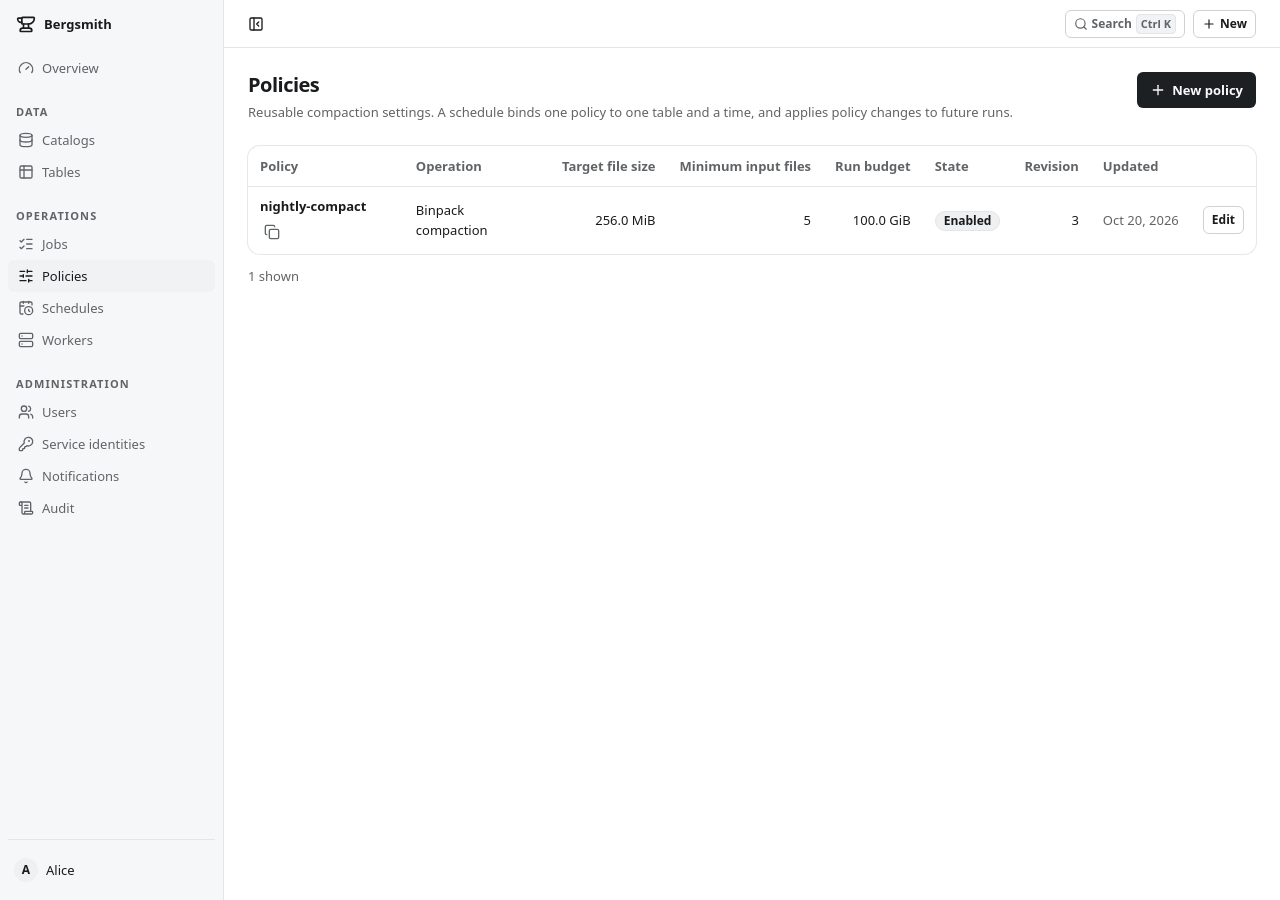
it: closes an edit without saving when the dialog is dismissed
This screenshot has width=1280, height=900.
Click the button with aria-label "Edit nightly-compact" at (1223, 220), box [1203,206,1244,234]
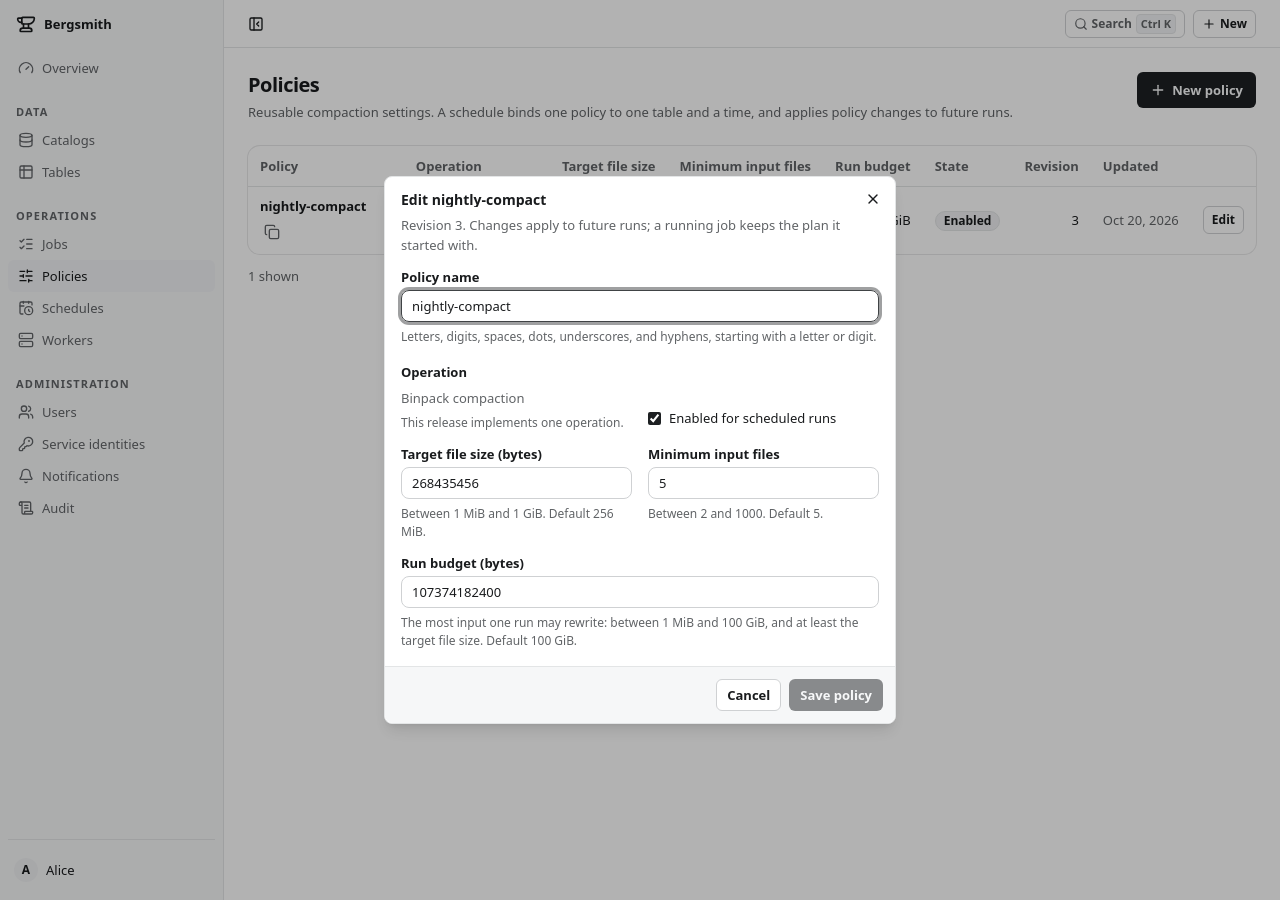
Press Escape
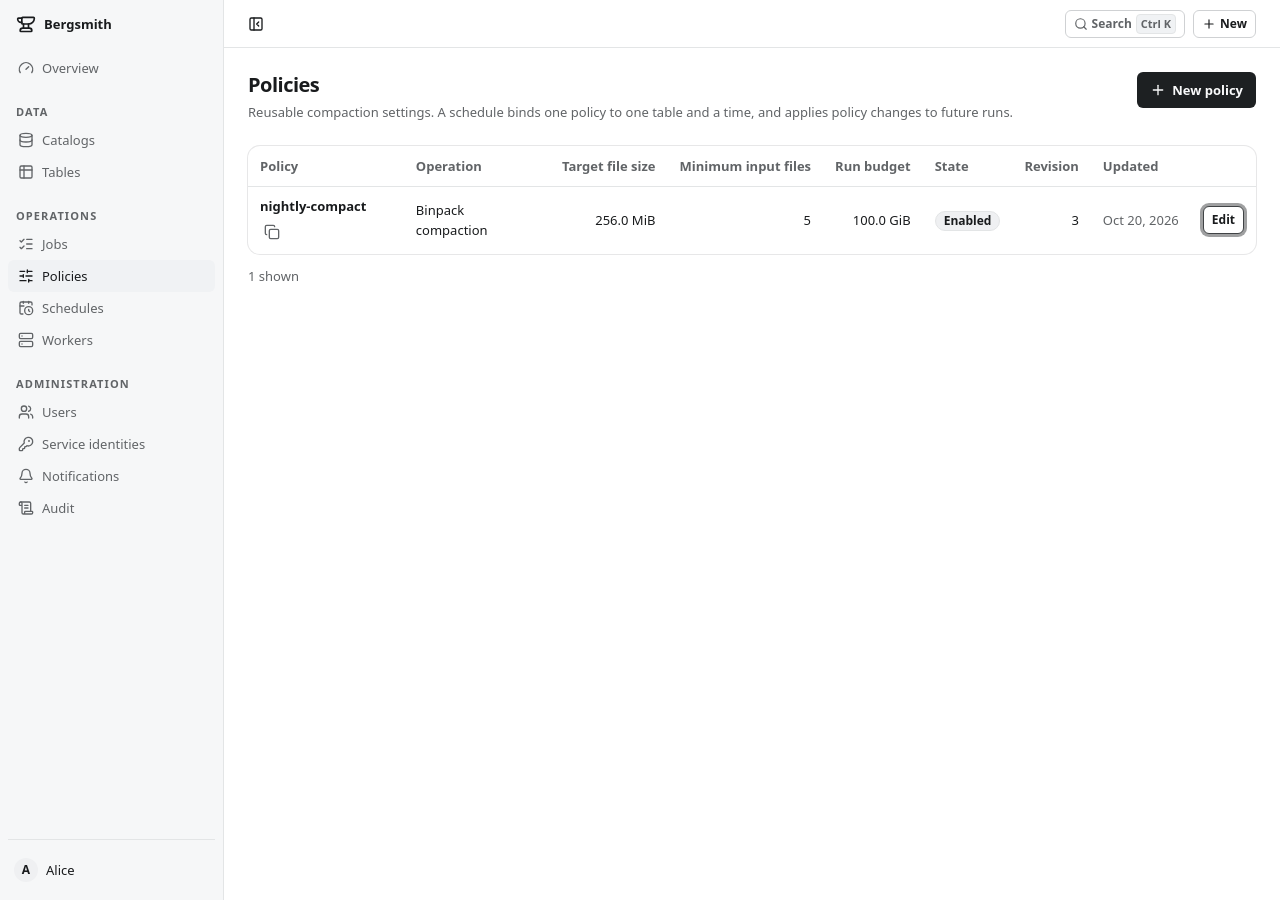
Expected: the heading "Edit nightly-compact" is gone
